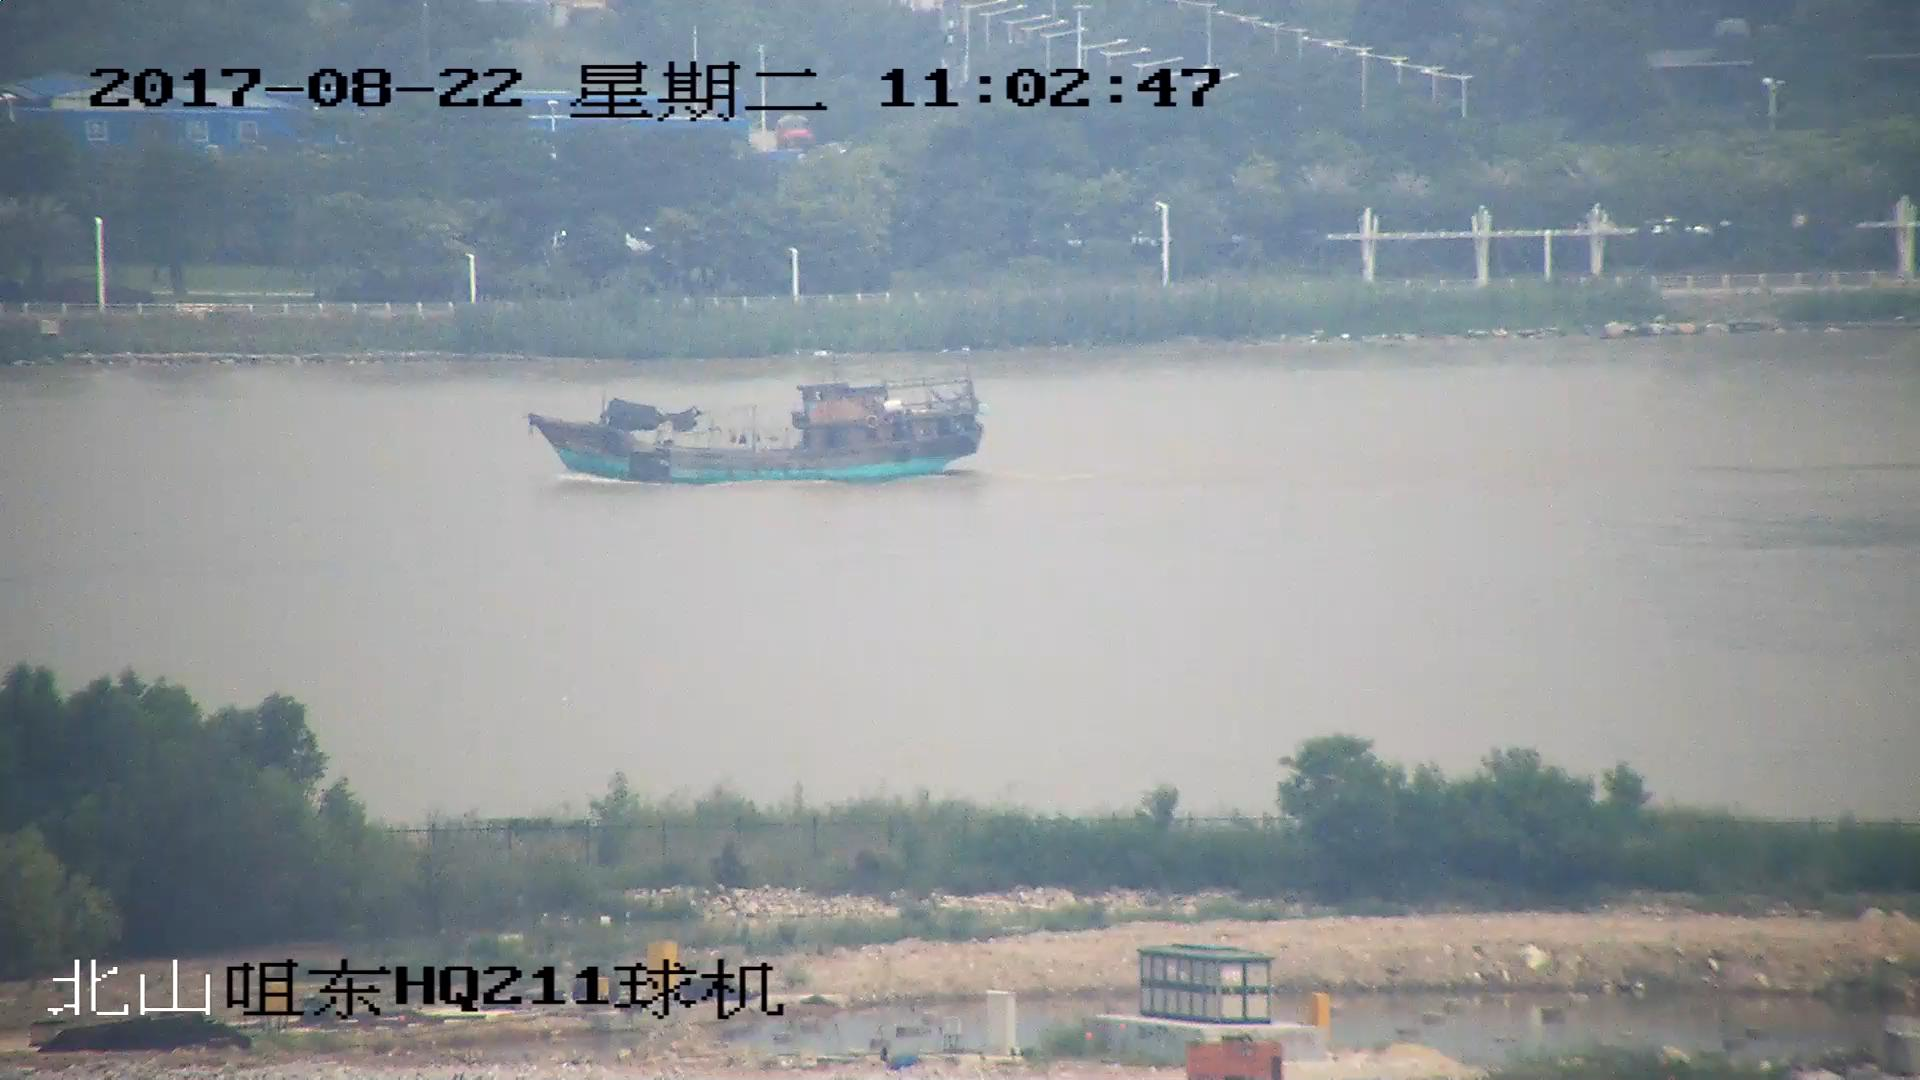fishing boat: (535, 367, 985, 484)
